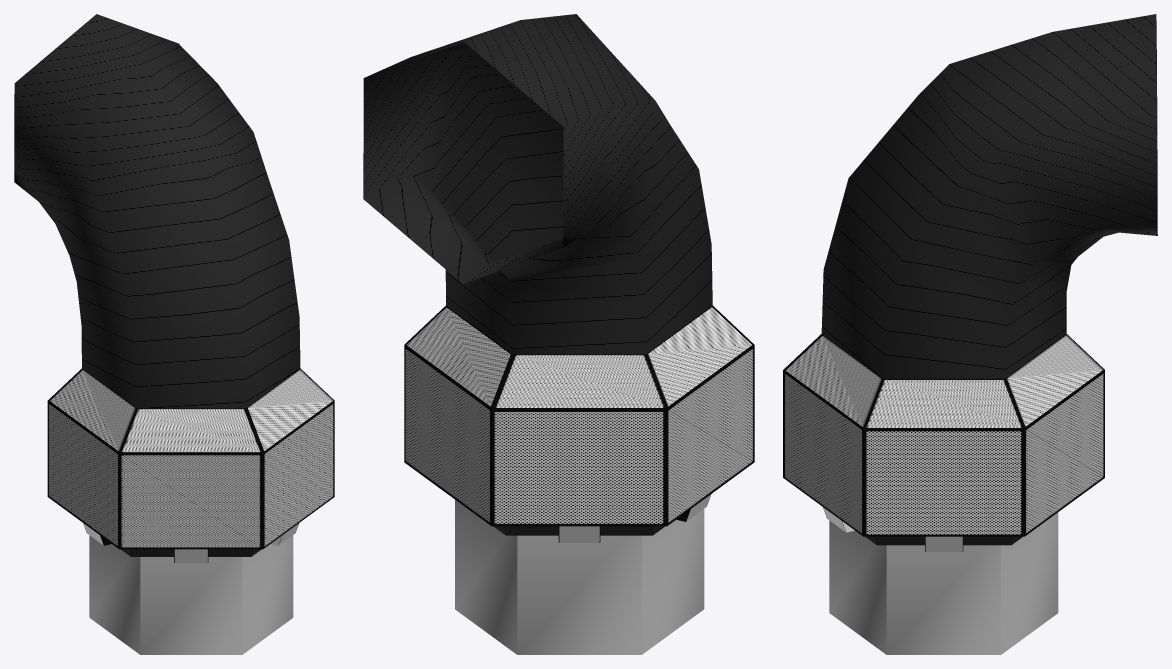
File: UpperPipe_Art.fbx
The picture shows the model from 3 angles, left to right: view 1: azimuth 30°, elevation 25°; view 2: azimuth 150°, elevation 25°; view 3: azimuth 270°, elevation 25°; orthographic projection. The views are drawn at different scales.
Visible parts, largest first — view 1: UpperPipe_Art; view 2: UpperPipe_Art; view 3: UpperPipe_Art.
Part boxes in pixels (x1,y1,x2,y2): UpperPipe_Art: (14,14,334,654); UpperPipe_Art: (363,14,754,654); UpperPipe_Art: (783,14,1157,654).
Bounding box in the file's own units: 1.81 × 4.3 × 2.44.
